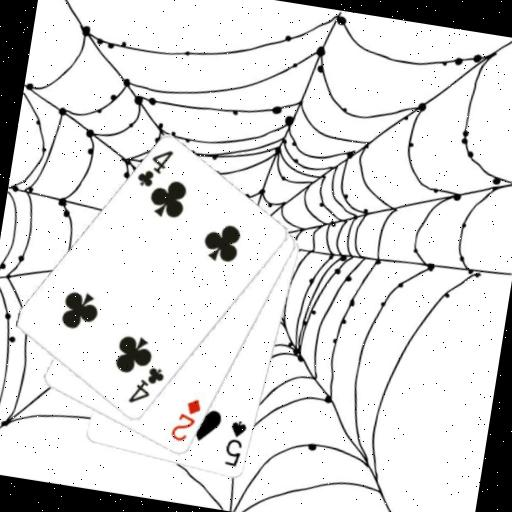2D: (166, 392, 203, 445)
4C: (124, 361, 167, 410), (132, 143, 175, 192)
5S: (219, 416, 250, 470)
